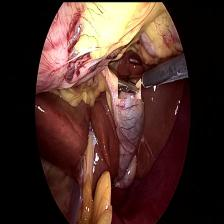Grasper: (117, 74, 140, 98)
